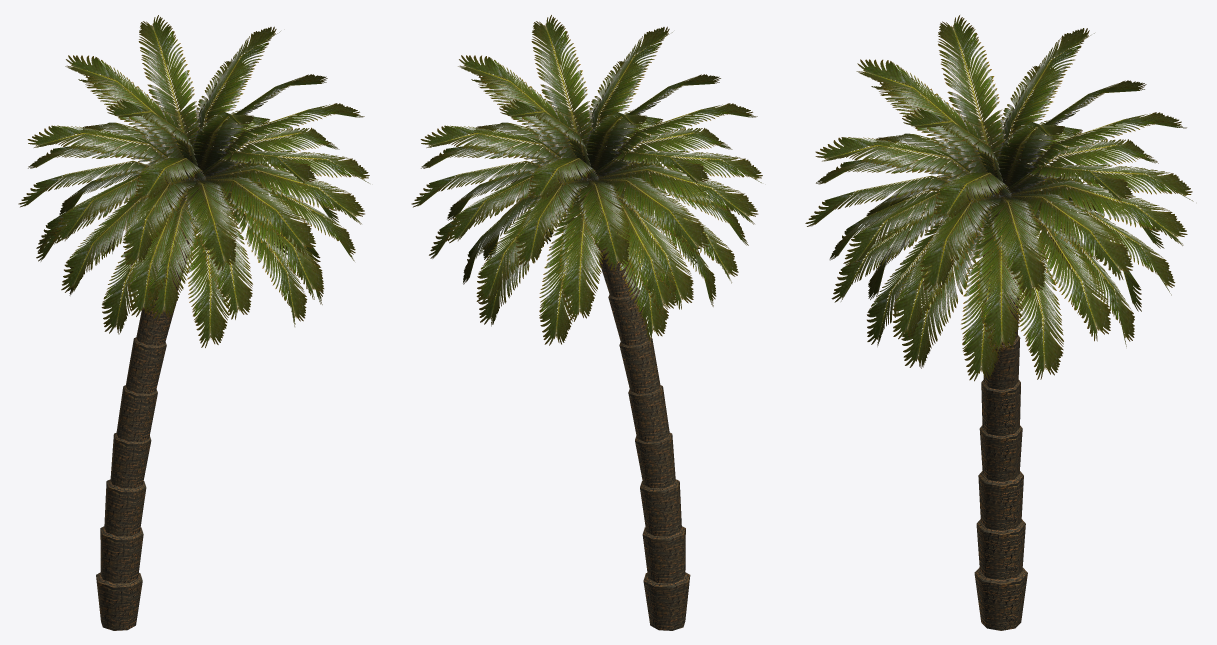
The model's file is Palm.fbx.
3 views of the same model, side by side, from view 1: azimuth 30°, elevation 25°; view 2: azimuth 150°, elevation 25°; view 3: azimuth 270°, elevation 25° (orthographic). The views are drawn at different scales.
Visible parts, largest first — view 1: Palm_Trunk, Plane042, Plane008, Plane029, Plane030, Plane043, Plane028, Plane015, Plane011, Plane039, Plane041, Plane031 (+22 smaller); view 2: Palm_Trunk, Plane040, Plane012, Plane033, Plane022, Plane041, Plane032, Plane018, Plane037, Plane045, Plane004, Plane023 (+24 smaller); view 3: Palm_Trunk, Plane044, Plane001, Plane006, Plane025, Plane026, Plane045, Plane024, Plane035, Plane020, Plane043, Plane013 (+23 smaller).
Boxes of the visible parts, <box> form: Palm_Trunk: <box>96,219,193,630</box>; Plane042: <box>138,15,202,167</box>; Plane008: <box>147,180,204,319</box>; Plane029: <box>197,177,315,255</box>; Plane030: <box>183,179,237,270</box>; Plane043: <box>65,55,194,178</box>; Plane028: <box>202,164,364,224</box>; Plane015: <box>186,201,229,347</box>; Plane011: <box>61,180,195,292</box>; Plane039: <box>27,125,195,180</box>; Plane041: <box>195,26,280,171</box>; Plane031: <box>122,179,200,266</box>; Palm_Trunk: <box>583,202,690,630</box>; Plane040: <box>531,15,595,167</box>; Plane012: <box>558,180,603,321</box>; Plane033: <box>590,177,709,255</box>; Plane022: <box>576,179,630,270</box>; Plane041: <box>458,55,587,178</box>; Plane032: <box>595,164,758,224</box>; Plane018: <box>539,195,597,345</box>; Plane037: <box>420,125,588,180</box>; Plane045: <box>588,26,672,171</box>; Plane004: <box>589,186,676,314</box>; Plane023: <box>515,179,595,266</box>; Palm_Trunk: <box>974,238,1027,630</box>; Plane044: <box>938,15,1008,193</box>; Plane001: <box>976,204,1025,353</box>; Plane006: <box>1004,203,1110,341</box>; Plane025: <box>1002,194,1133,280</box>; Plane026: <box>987,196,1046,297</box>; Plane045: <box>856,59,998,195</box>; Plane024: <box>1008,180,1187,245</box>; Plane035: <box>815,137,1000,197</box>; Plane020: <box>1003,208,1063,379</box>; Plane043: <box>999,28,1094,187</box>; Plane013: <box>961,211,1014,381</box>.
Size of the model in its own units: 279 by 458 by 279.
